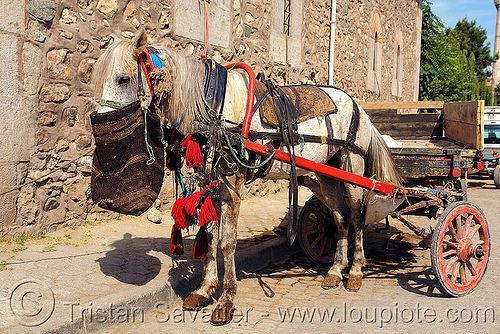horse: (87, 24, 404, 328)
